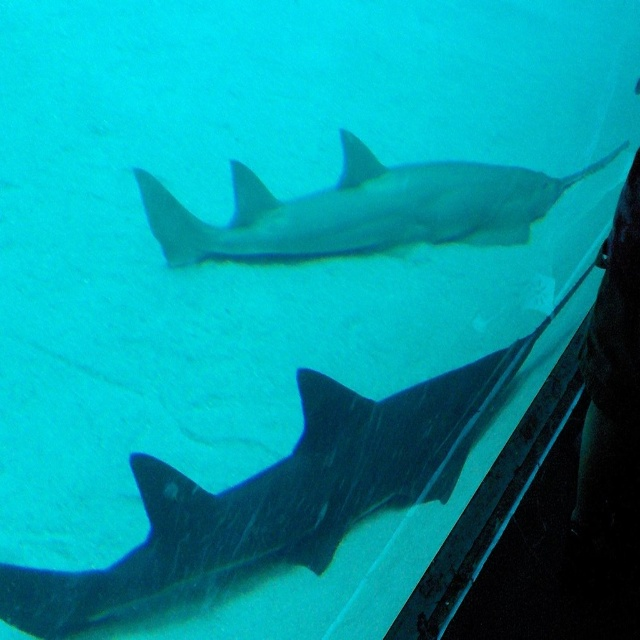Shark: (0, 256, 602, 633), (132, 124, 631, 249)
